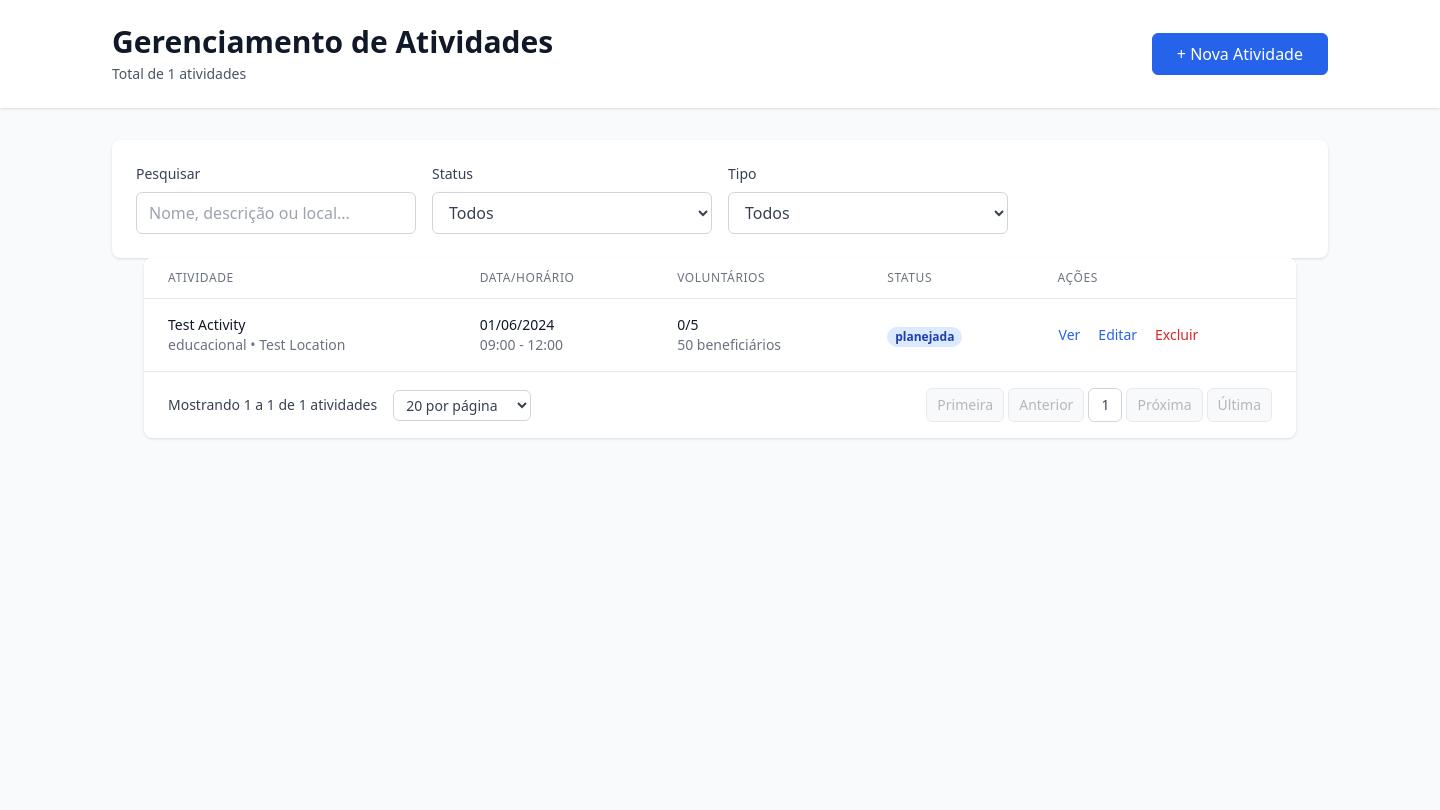
Scenario: ONGActivitiesPage › View Details › should close details modal when clicking close button
Step 1. Click the button "Ver" → (1069, 335), box x1=1058 y1=324 x2=1081 y2=346
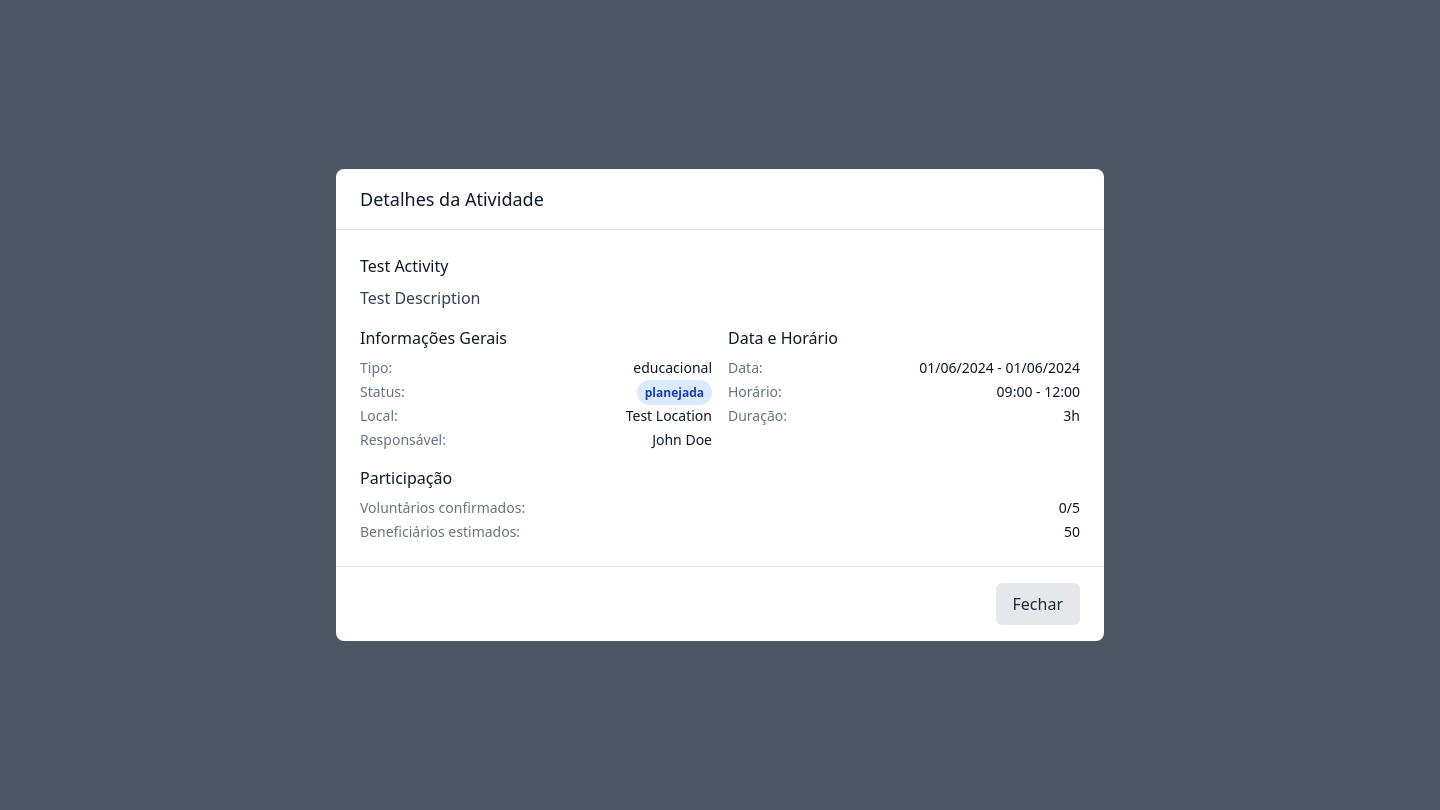
Expected: the heading "Detalhes da Atividade" is shown, x1=360 y1=187 x2=544 y2=211
Step 2. Click the button "Fechar" → (1038, 604), box x1=996 y1=583 x2=1080 y2=625
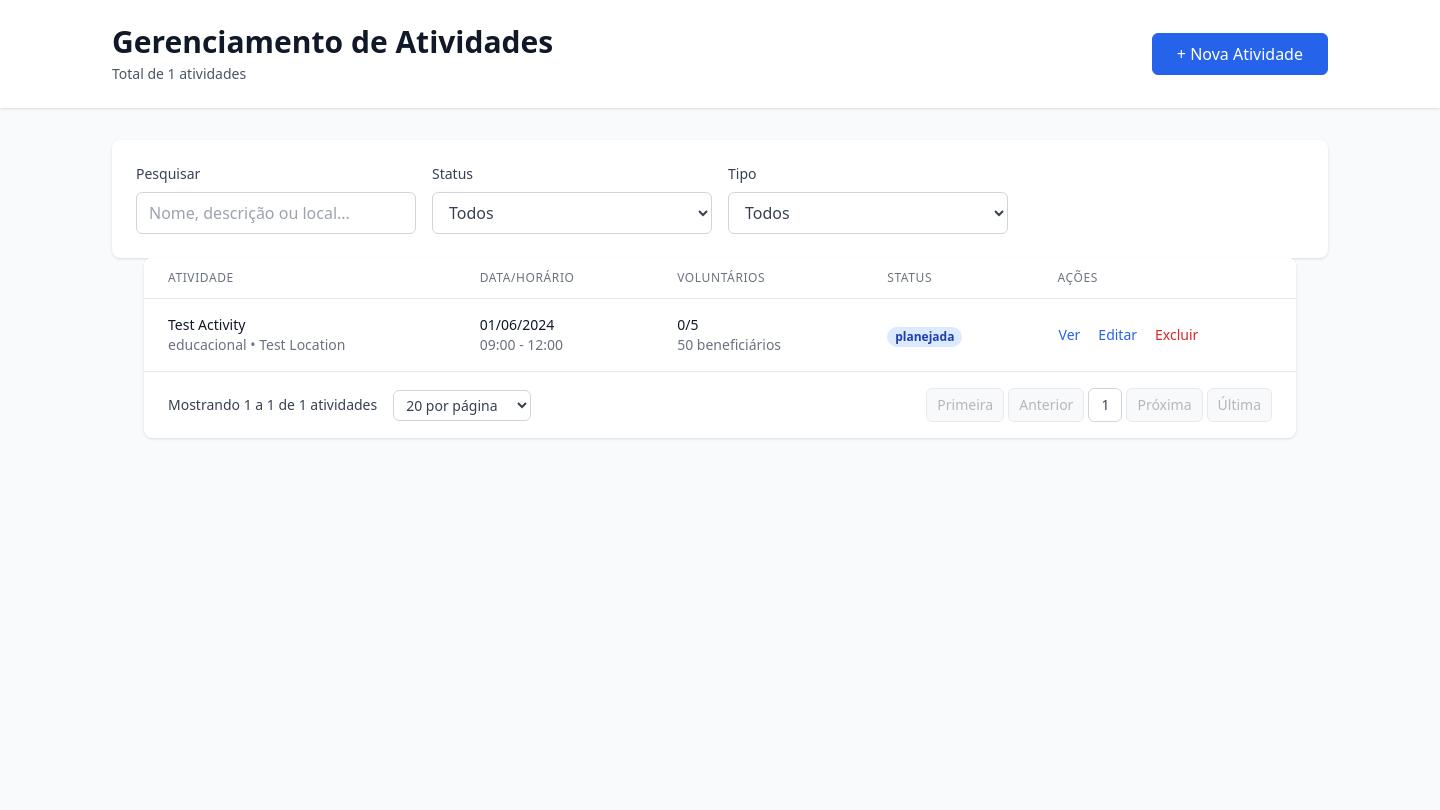
Expected: the heading "Detalhes da Atividade" is gone
